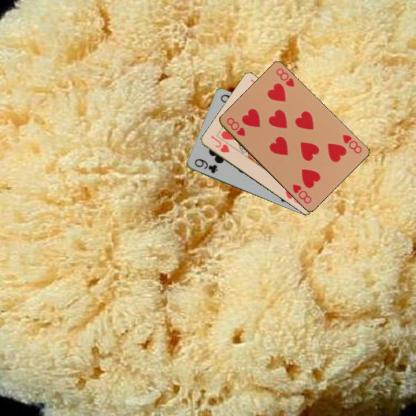8h: (340, 132, 363, 155), (224, 114, 246, 138)
9c: (192, 156, 218, 174)
Jh: (208, 133, 231, 154)
